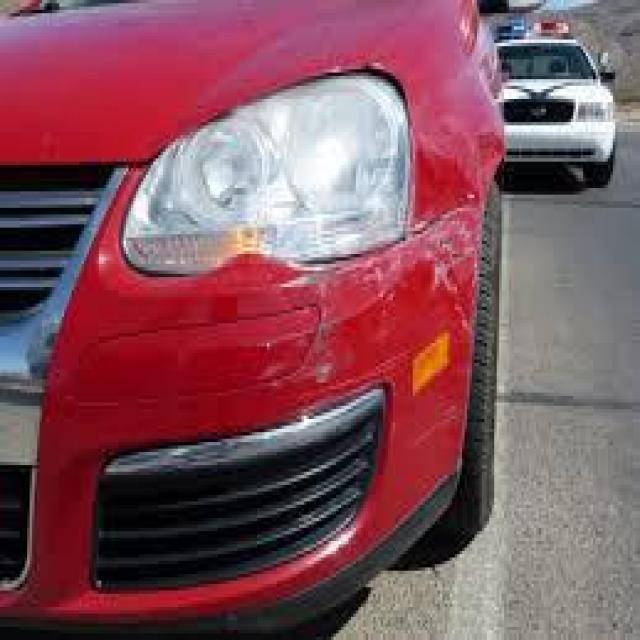damaged: (266, 194, 479, 390), (460, 112, 504, 195)
